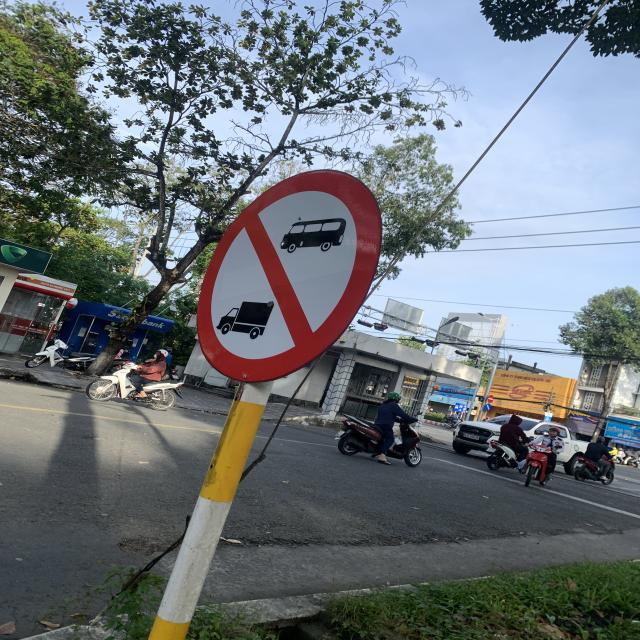Cam_XeTai_XeKhach: (198, 167, 384, 383)
